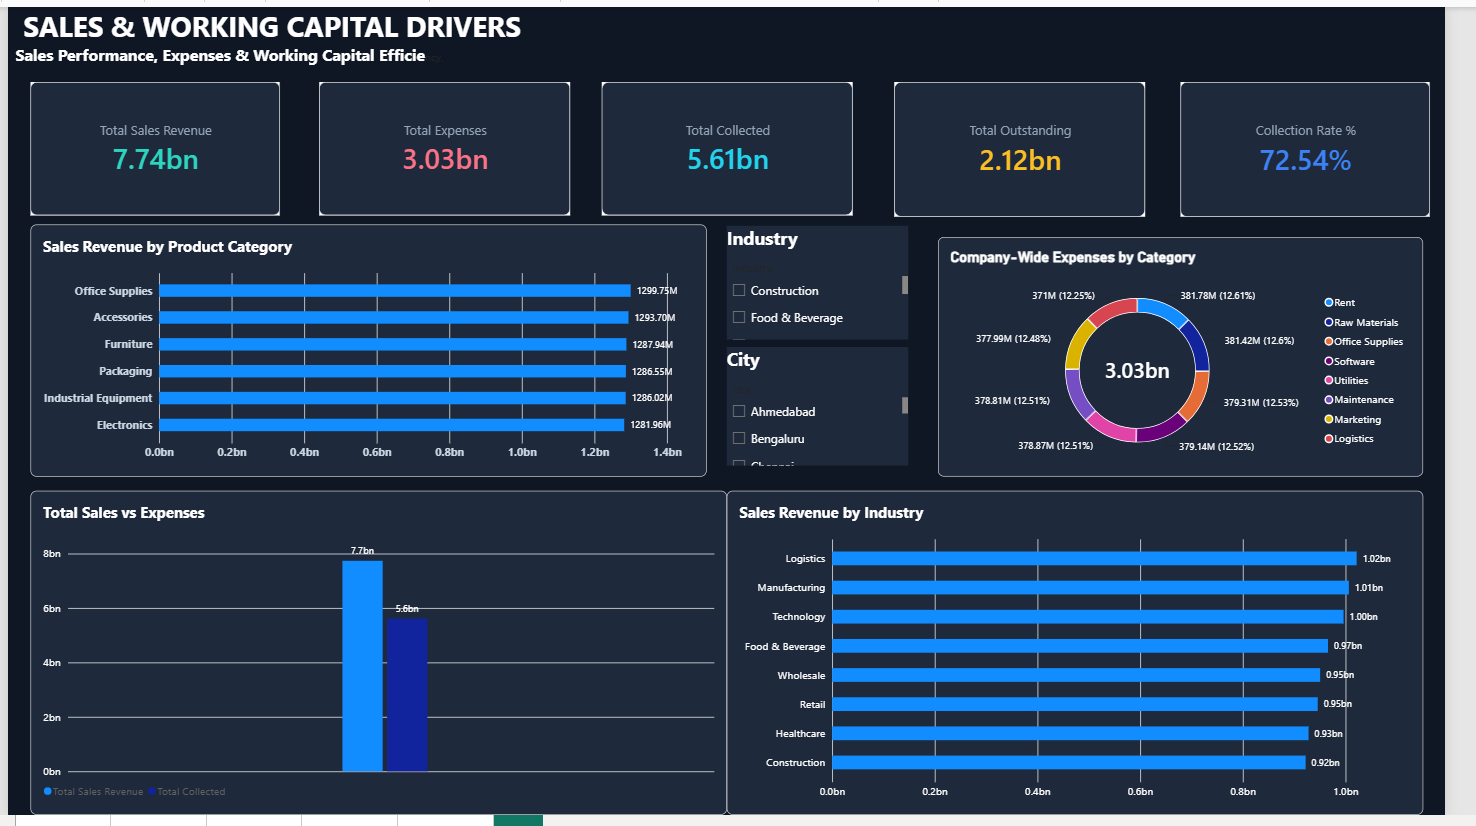

Layout of this report page (visuals, bound fields, positions):
{"tool":"powerbi","page":{"name":"Page 5","canvas":[1920,1080],"ordinal":4},"visuals":[{"type":"textbox","box":[10.3,0,1280.3,185.2],"z":0},{"type":"cardVisual","fields":{"Data":["sme_working_capital customers.Total Outstanding"]},"box":[1183.3,100,335,180],"z":1000},{"type":"cardVisual","fields":{"Data":["sme_working_capital expenses_payables.Total Expenses"]},"box":[415,100,335,178.3],"z":2000},{"type":"cardVisual","fields":{"Data":["sme_working_capital customers.Collection Rate %"]},"box":[1566.7,100,333.3,180],"z":3000},{"type":"cardVisual","fields":{"Data":["sme_working_capital sales.Total Sales Revenue"]},"box":[30,100,333.3,178.3],"z":4000},{"type":"cardVisual","fields":{"Data":["sme_working_capital payments.Total Collected"]},"box":[793.3,100,335,178.3],"z":5000},{"type":"clusteredBarChart","title":"Sales Revenue by Product Category","fields":{"Category":["sme_working_capital sales.product_category"],"Y":["sme_working_capital sales.Total Sales Revenue"]},"box":[30.4,291.3,902.8,336.6],"z":6000},{"type":"slicer","title":"City","fields":{"Values":["sme_working_capital customers.city"]},"box":[960,454,242,158],"z":7000},{"type":"slicer","title":"Industry","fields":{"Values":["sme_working_capital customers.industry"]},"box":[960,292,242,152],"z":8000},{"type":"clusteredBarChart","title":"Sales Revenue by Industry","fields":{"Category":["sme_working_capital customers.industry"],"Y":["sme_working_capital sales.Total Sales Revenue"]},"box":[960.9,645.7,930.4,432.6],"z":9000},{"type":"clusteredColumnChart","title":"Total Sales vs Expenses","fields":{"Y":["sme_working_capital sales.Total Sales Revenue","sme_working_capital payments.Total Collected"]},"box":[30,646,930.4,432.6],"z":10000},{"type":"donutChart","title":"Company-Wide Expenses by Category","fields":{"Category":["sme_working_capital expenses_payables.expense_category"],"Y":["Sum(sme_working_capital expenses_payables.amount)"]},"box":[1242,308,648,320],"z":11000}]}

Visuals, with their boxes in screenshot pixels (x1, y1, x2, y2), scaled from the page's 1920x1080 canvas onto the 1476x826 screenshot:
textbox: 8 0 992 142
cardVisual - sme_working_capital customers.Total Outstanding: 910 76 1167 214
cardVisual - sme_working_capital expenses_payables.Total Expenses: 319 76 577 213
cardVisual - sme_working_capital customers.Collection Rate %: 1204 76 1461 214
cardVisual - sme_working_capital sales.Total Sales Revenue: 23 76 279 213
cardVisual - sme_working_capital payments.Total Collected: 610 76 867 213
"Sales Revenue by Product Category" clusteredBarChart: 23 223 717 480
"City" slicer: 738 347 924 468
"Industry" slicer: 738 223 924 340
"Sales Revenue by Industry" clusteredBarChart: 739 494 1454 825
"Total Sales vs Expenses" clusteredColumnChart: 23 494 738 825
"Company-Wide Expenses by Category" donutChart: 955 236 1453 480
